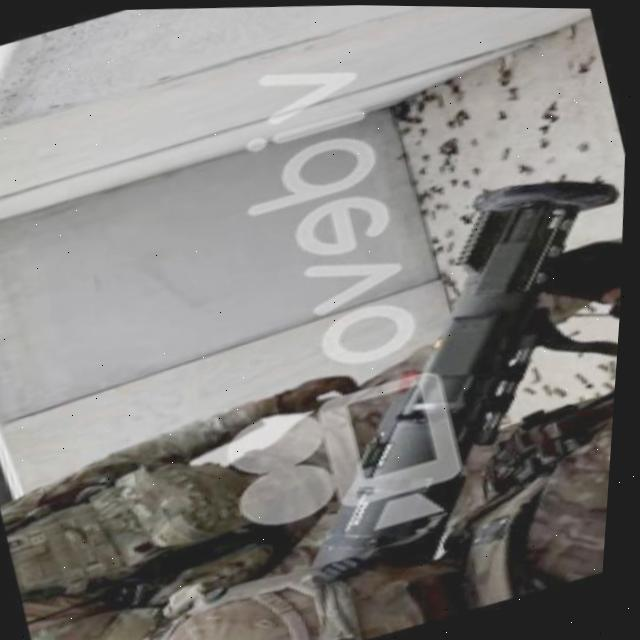rocket: (236, 148, 632, 556)
